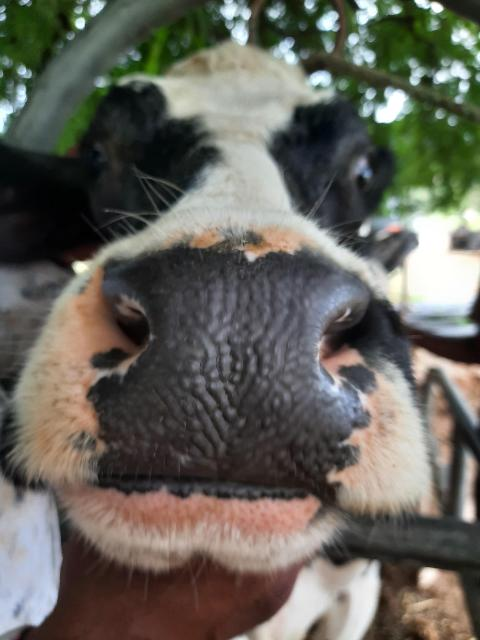Muzzle: (150, 260, 322, 490)
